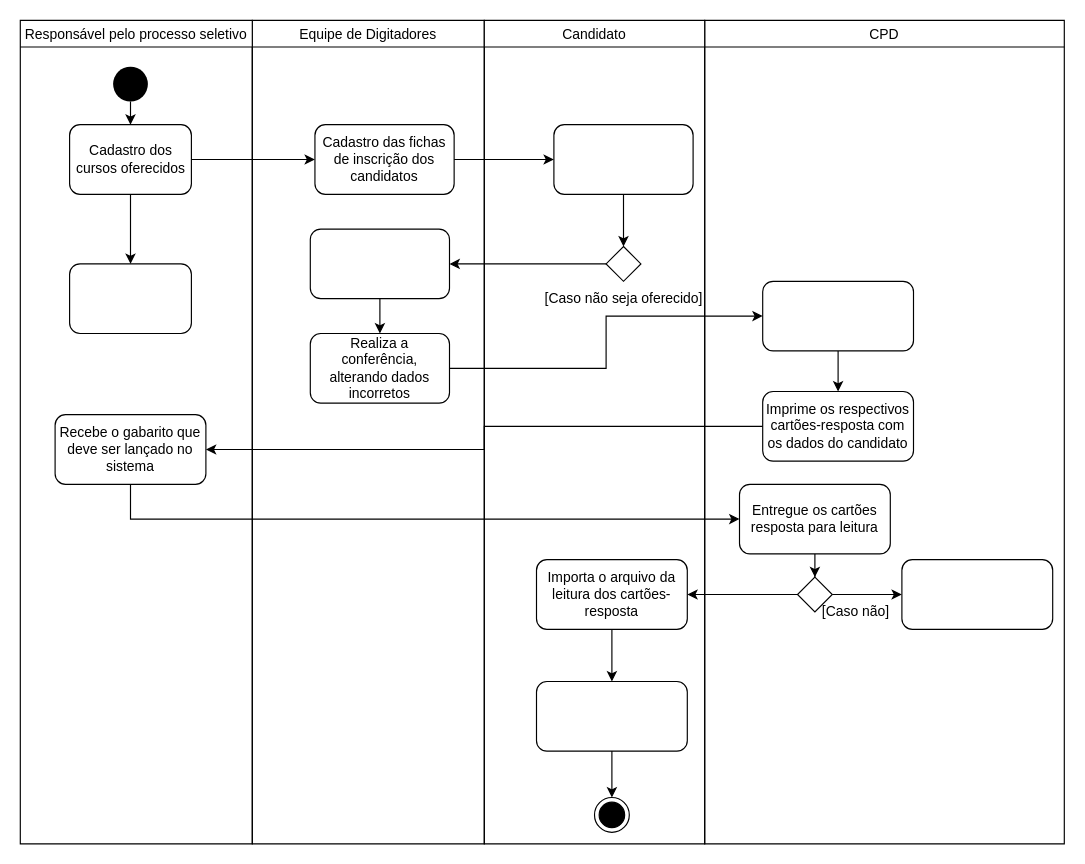
This 1085x864 diagram has some shape labels left out. Here are the shapes that lost their labels. From the top down, the centre of each, then its label:
point (623, 159): Escolha do curso oferecido
point (379, 263): Imprimir o erro de inscrição para que seja averiguado
point (129, 298): Cadastro das datas de prova
point (837, 315): Aloca os candidatos nos locais e salas de aula
point (977, 594): Correção dos erros para que possam ser lidos
point (611, 715): Gera a classificação geral do Processo Seletivo
